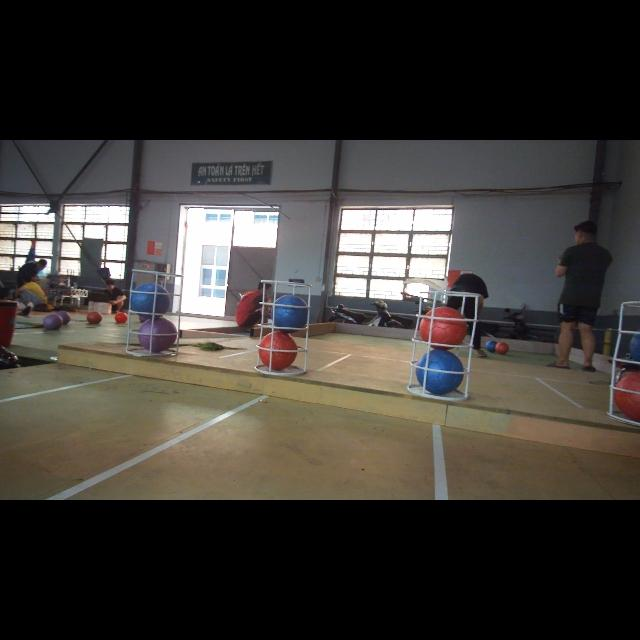B: (414, 348, 464, 392), (128, 282, 170, 318), (270, 296, 308, 332)
R: (418, 307, 468, 349), (258, 332, 298, 371), (614, 370, 640, 416)
